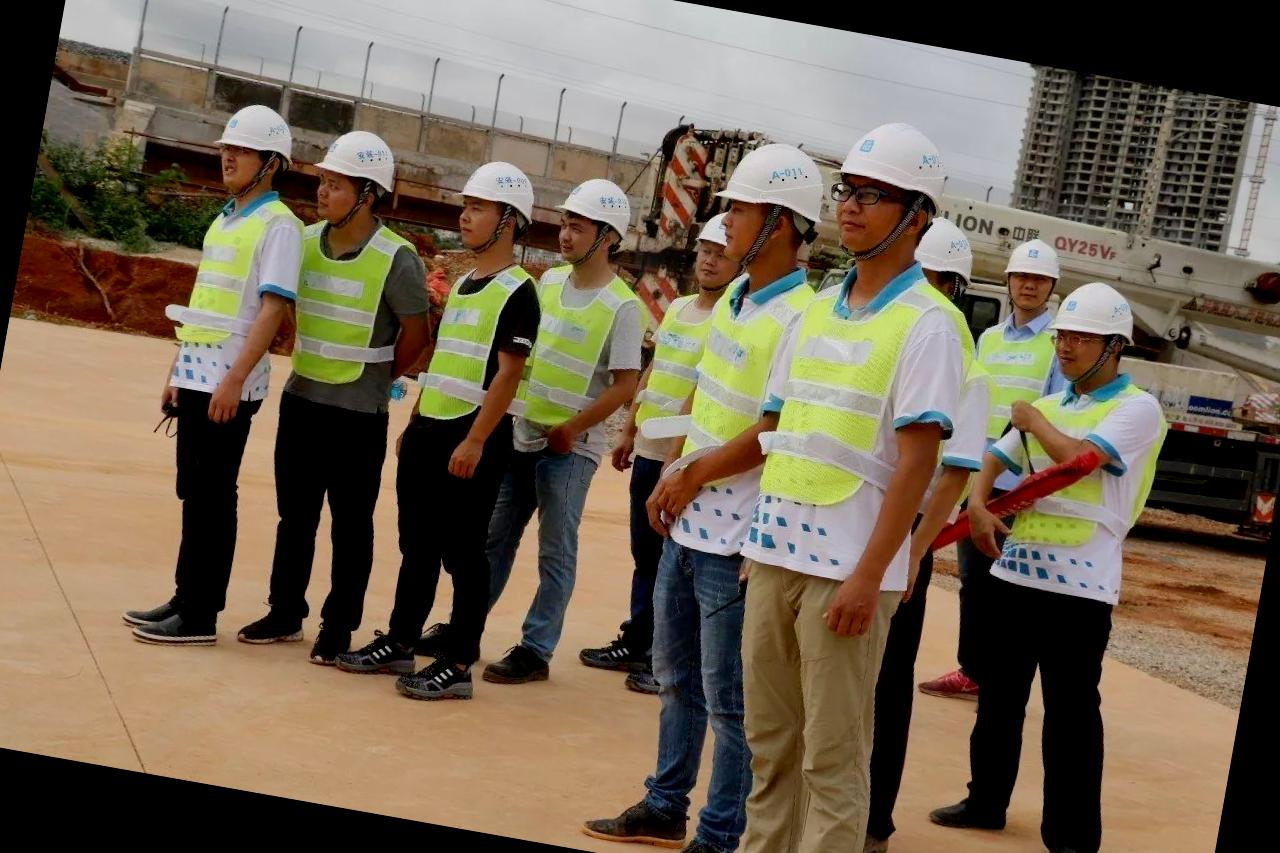helmet: (702, 128, 840, 253), (826, 108, 960, 233), (1040, 272, 1144, 376), (449, 151, 544, 240), (306, 122, 404, 208), (207, 93, 306, 178), (548, 166, 640, 256)
person: (703, 117, 1011, 853), (591, 116, 850, 853), (938, 271, 1199, 853), (230, 127, 448, 660), (368, 157, 568, 708), (120, 100, 314, 646)
